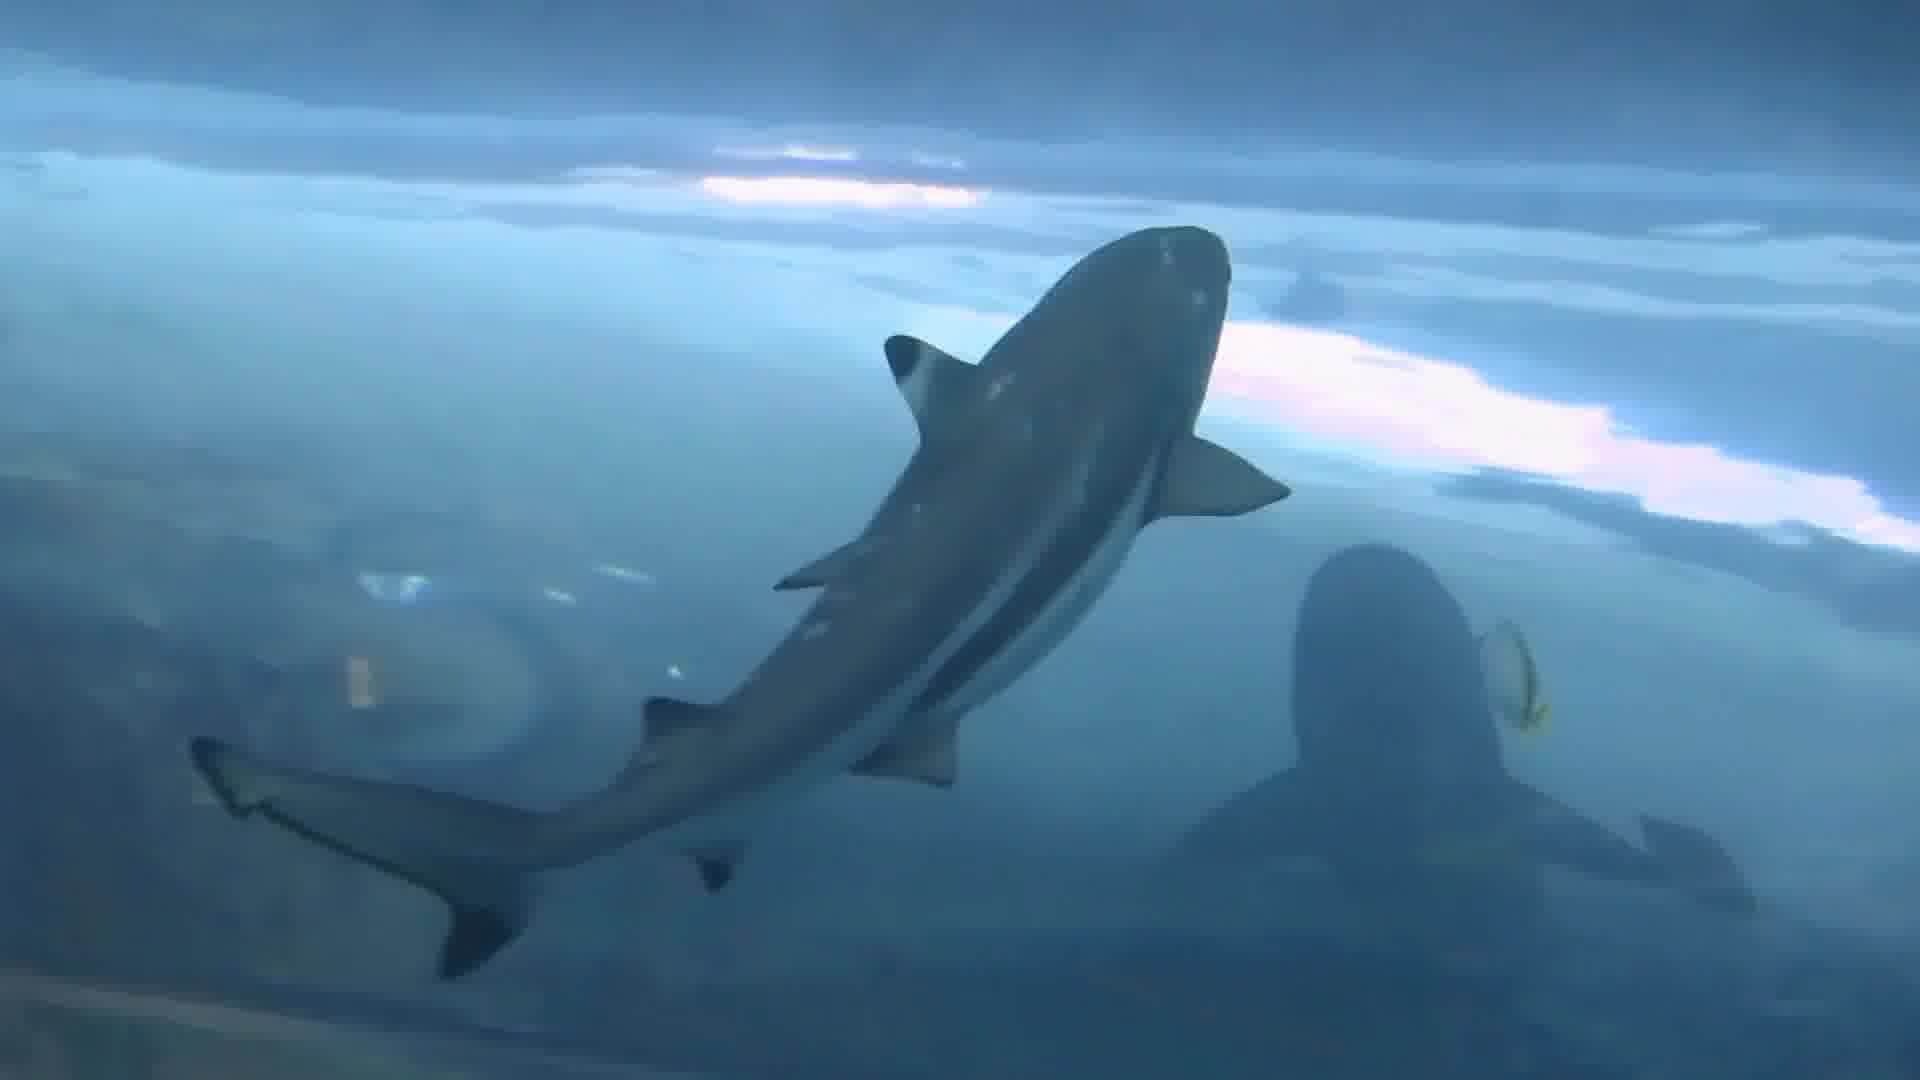Carcharhinus melanopterus: (183, 203, 1328, 988)
